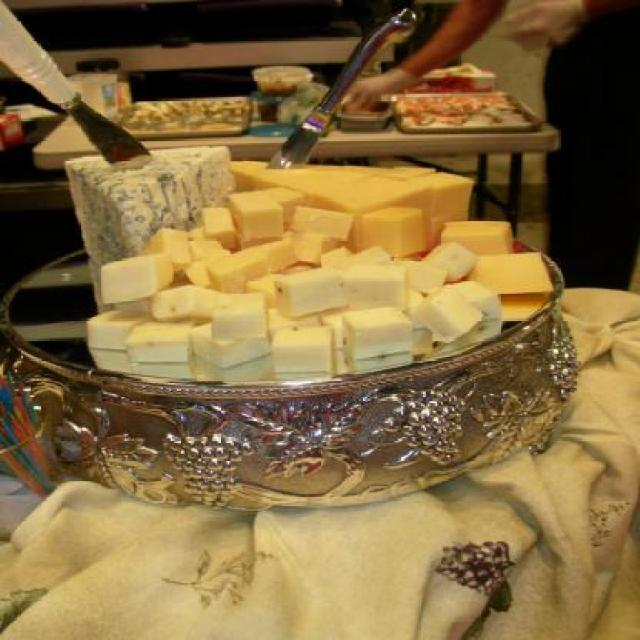Cheese: (84, 239, 503, 373), (230, 158, 558, 294), (62, 144, 233, 266)
